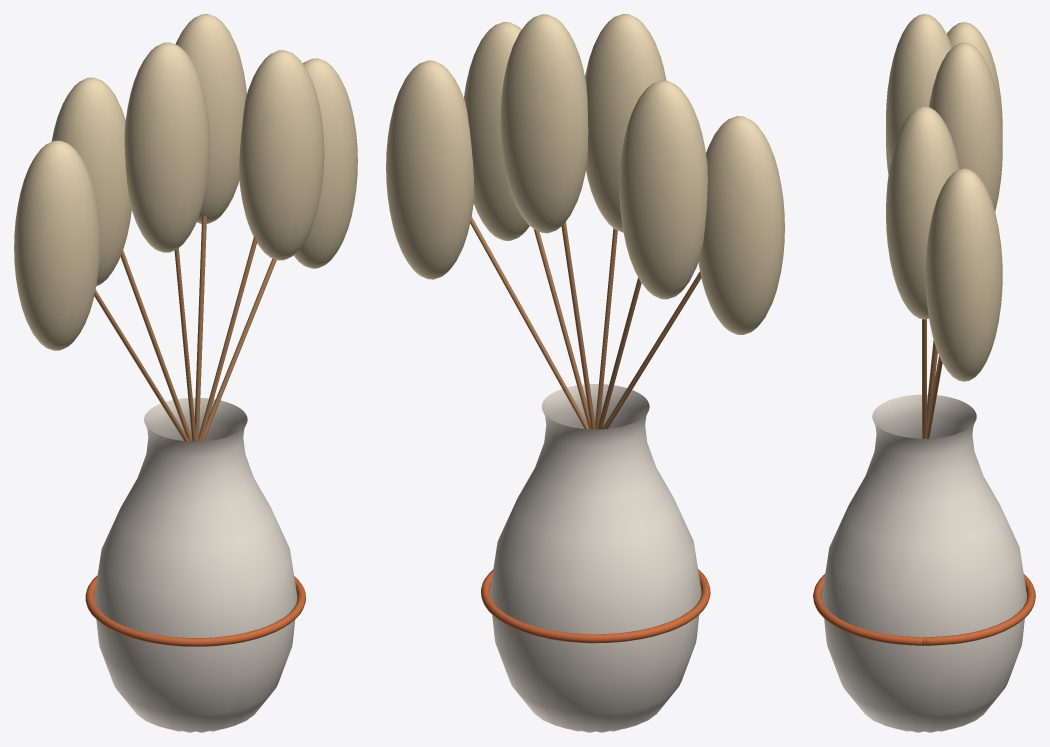
Rendered from deco_jarron_nordico.glb.
The picture shows the model from 3 angles, left to right: view 1: azimuth 30°, elevation 25°; view 2: azimuth 150°, elevation 25°; view 3: azimuth 270°, elevation 25°; orthographic projection. The views are drawn at different scales.
Visible parts, largest first — view 1: jarrón nórdico.001, pluma pampa 0.001, pluma pampa 2.001, pluma pampa 4.001, pluma pampa 1.001, pluma pampa 3.001, pluma pampa 5.001, raya jarrón.001, tallo pampa 3.001, tallo pampa 4.001, tallo pampa 1.001, tallo pampa 5.001 (+2 smaller); view 2: jarrón nórdico.001, pluma pampa 3.001, pluma pampa 1.001, pluma pampa 5.001, pluma pampa 0.001, pluma pampa 2.001, pluma pampa 4.001, raya jarrón.001, tallo pampa 5.001, tallo pampa 3.001, tallo pampa 4.001, tallo pampa 2.001 (+2 smaller); view 3: jarrón nórdico.001, pluma pampa 5.001, pluma pampa 4.001, pluma pampa 3.001, pluma pampa 2.001, raya jarrón.001, pluma pampa 1.001, tallo pampa 4.001, tallo pampa 5.001.
Part boxes in pixels (box(x1,y1,x2,y2)): jarrón nórdico.001: box(94, 397, 297, 732); pluma pampa 0.001: box(14, 140, 99, 350); pluma pampa 2.001: box(124, 42, 209, 252); pluma pampa 4.001: box(239, 50, 324, 260); pluma pampa 1.001: box(51, 77, 131, 285); pluma pampa 3.001: box(175, 14, 246, 223); pluma pampa 5.001: box(293, 58, 357, 268); raya jarrón.001: box(85, 575, 305, 646); tallo pampa 3.001: box(194, 216, 206, 441); tallo pampa 4.001: box(198, 236, 257, 441); tallo pampa 1.001: box(120, 250, 192, 441); tallo pampa 5.001: box(202, 258, 276, 441); jarrón nórdico.001: box(490, 384, 701, 732); pluma pampa 3.001: box(500, 14, 588, 233); pluma pampa 1.001: box(619, 80, 707, 299); pluma pampa 5.001: box(386, 60, 474, 279); pluma pampa 0.001: box(698, 116, 784, 334); pluma pampa 2.001: box(585, 14, 666, 232); pluma pampa 4.001: box(464, 22, 529, 240); raya jarrón.001: box(481, 569, 710, 643); tallo pampa 5.001: box(470, 217, 589, 429); tallo pampa 3.001: box(561, 222, 595, 429); tallo pampa 4.001: box(533, 229, 590, 429); tallo pampa 2.001: box(595, 228, 617, 429); jarrón nórdico.001: box(822, 394, 1026, 732); pluma pampa 5.001: box(925, 168, 1002, 381); pluma pampa 4.001: box(886, 106, 959, 319); pluma pampa 3.001: box(929, 42, 1002, 211); pluma pampa 2.001: box(886, 14, 952, 166); raya jarrón.001: box(813, 574, 1035, 645); pluma pampa 1.001: box(947, 22, 1002, 137); tallo pampa 4.001: box(922, 319, 926, 438); tallo pampa 5.001: box(924, 356, 942, 438).
Size of the model in its own units: 0.3126 by 0.5726 by 0.1684.
